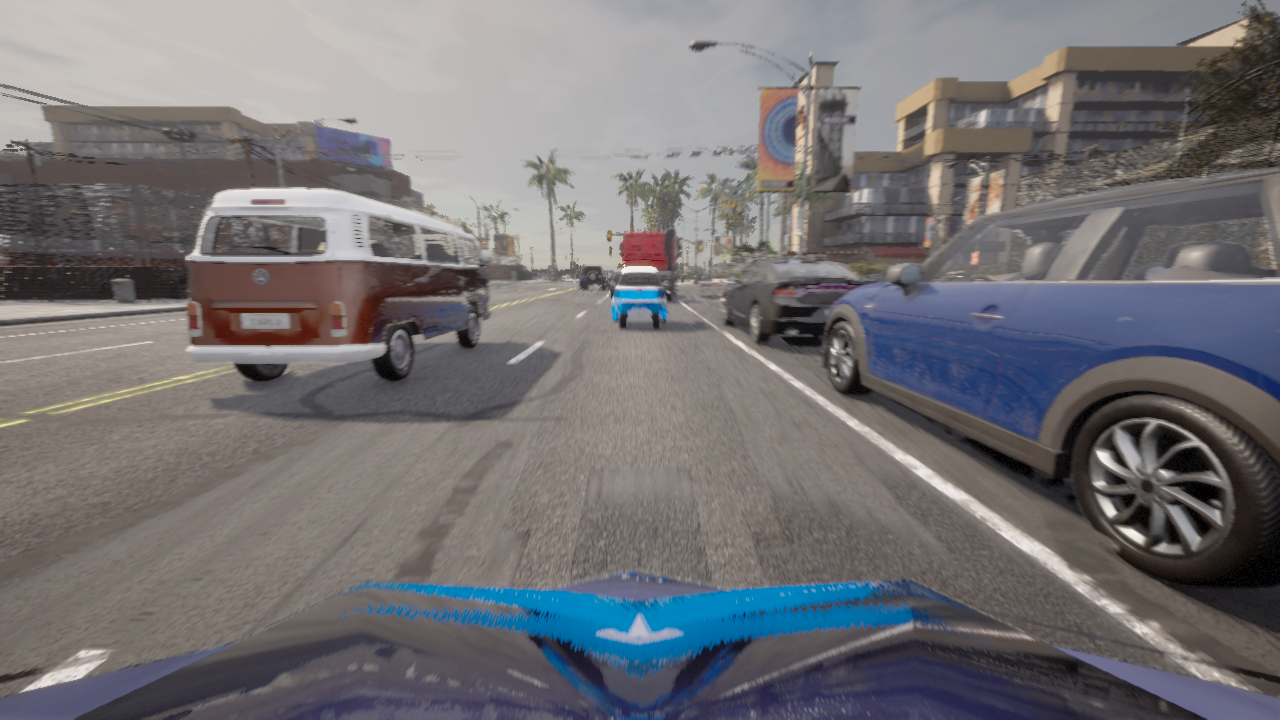cyclist: (0, 569, 1279, 719), (822, 168, 1279, 586), (185, 188, 491, 381), (722, 255, 875, 343), (608, 229, 681, 300), (609, 266, 669, 328), (579, 264, 607, 289), (861, 271, 888, 281)
